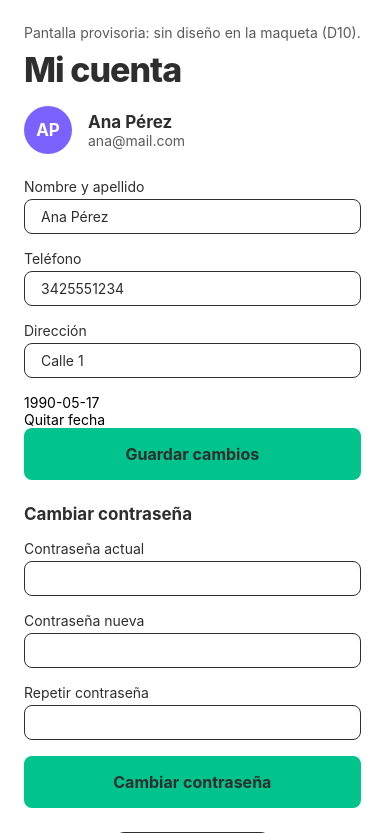
MiCuenta › el error del backend en la fecha de nacimiento sale bajo el campo
This screenshot has width=390, height=833.
Click the button "Guardar cambios" at point(192, 454), box 24,428 -> 361,480
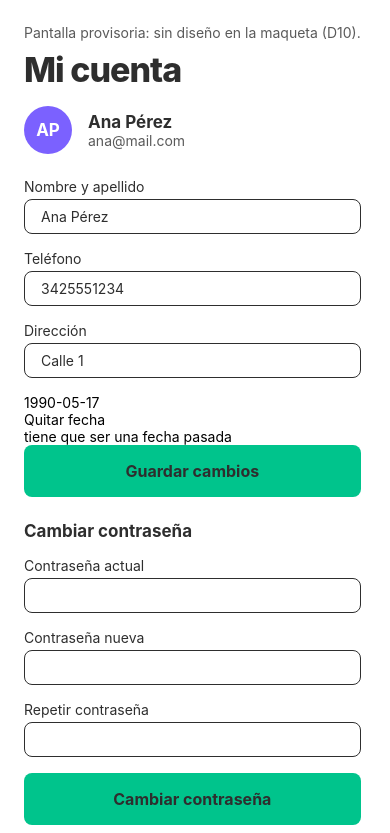
Expected: the text "tiene que ser una fecha pasada" is shown, 24,428 -> 232,445
